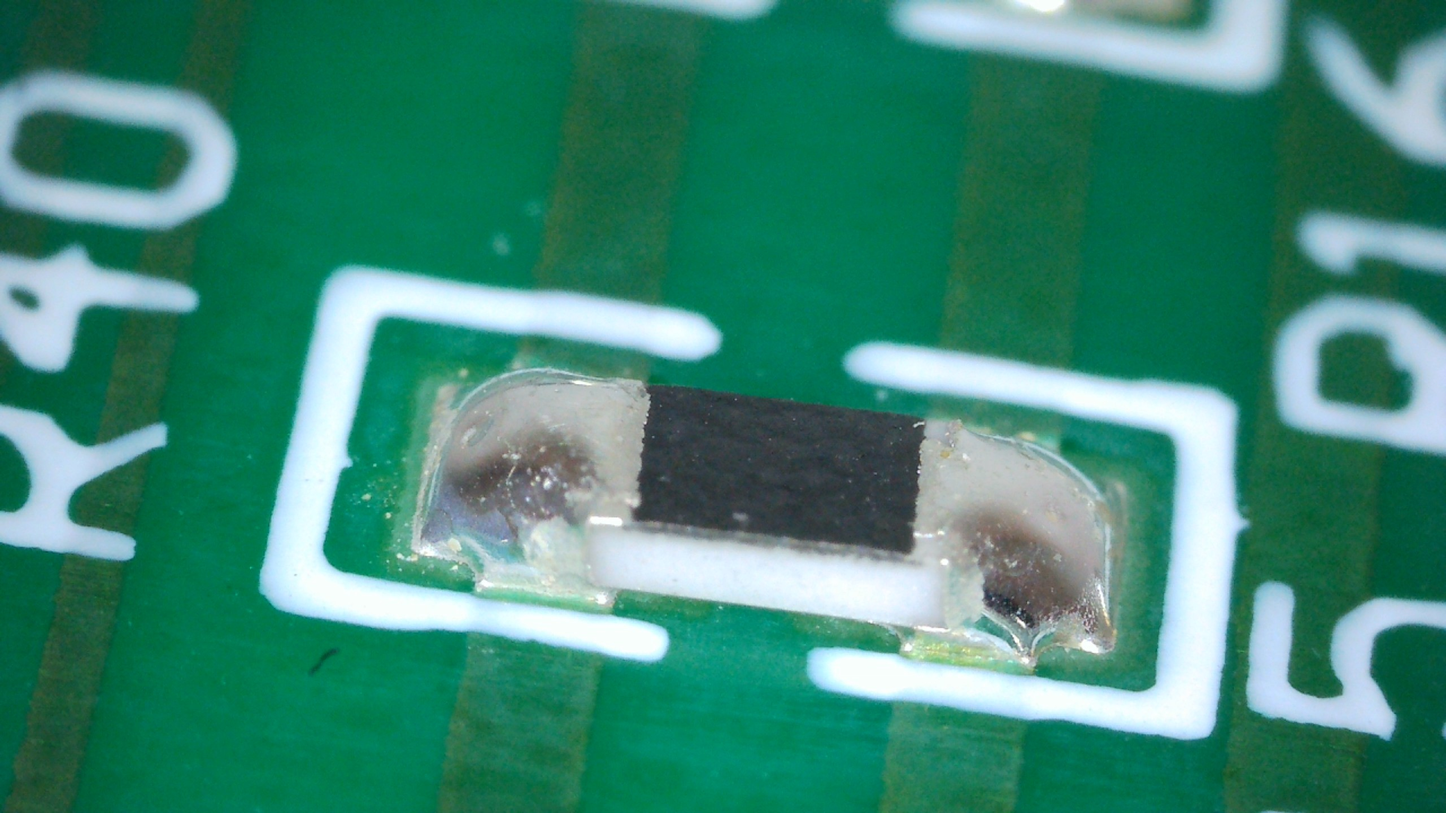NG: (419, 368, 643, 608), (913, 421, 1119, 659)
